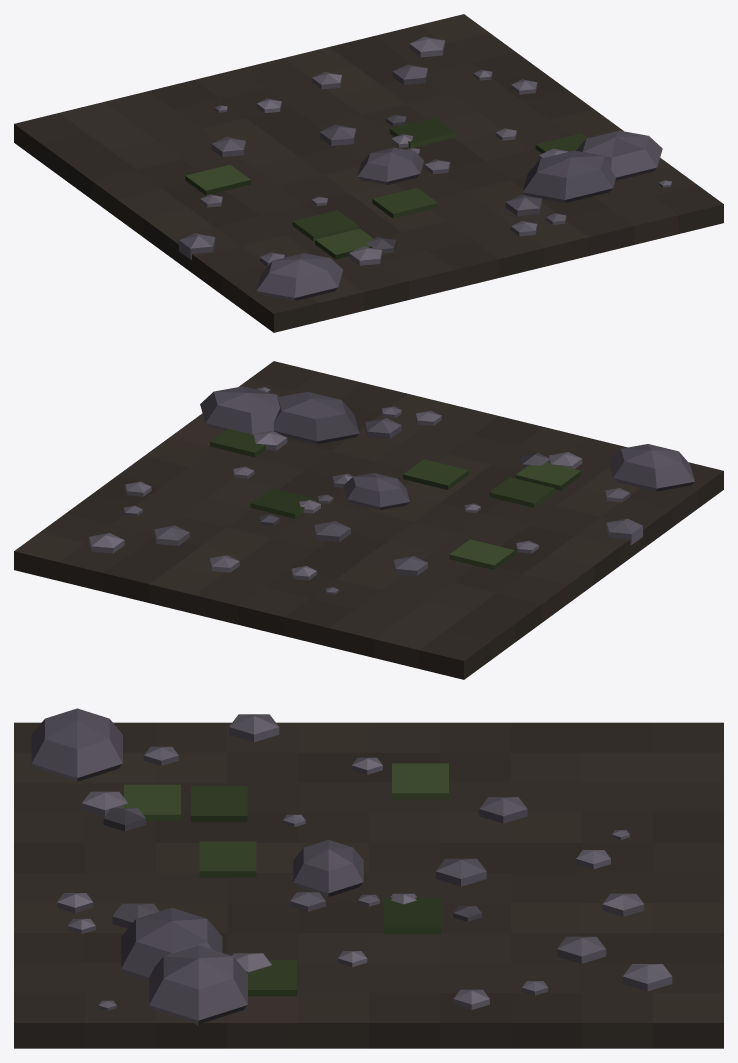
The model's file is t_dirt_2.glb.
3 renders of one model, top to bottom at view 1: azimuth 30°, elevation 25°; view 2: azimuth 150°, elevation 25°; view 3: azimuth 270°, elevation 25°, orthographic. The views are drawn at different scales.
Parts seen in each view (by area): view 1: t_dirt_2; view 2: t_dirt_2; view 3: t_dirt_2.
Part boxes in pixels (x1,y1,x2,y2): t_dirt_2: (14, 14, 723, 332); t_dirt_2: (14, 361, 723, 679); t_dirt_2: (14, 708, 723, 1048).
Size of the model in its own units: 1.02 by 0.0993 by 1.
